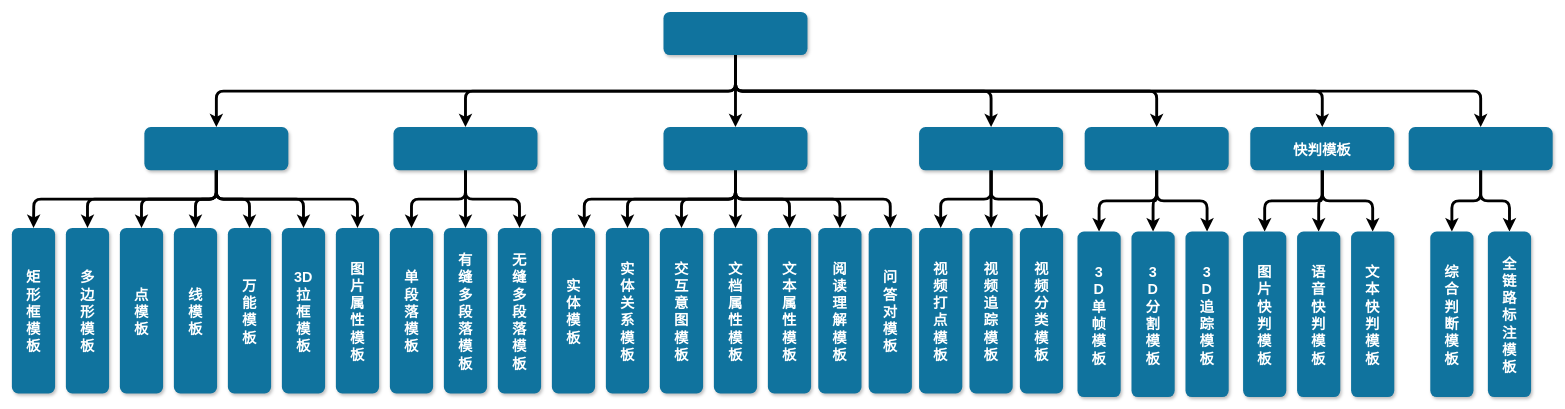
The diagram is 1565 pixels wide and 409 high, and some of its shapes have lost their labels. The shapes that lost their labels are listed below. From the top down, each one's centre as x and y in pixels, then its label:
the point at 735,34: 标注模板
the point at 216,149: 图片模板
the point at 465,149: 语音模板
the point at 735,149: 文本模板
the point at 991,149: 视频模板
the point at 1157,149: 3D点云模板
the point at 1481,149: 综合模板
